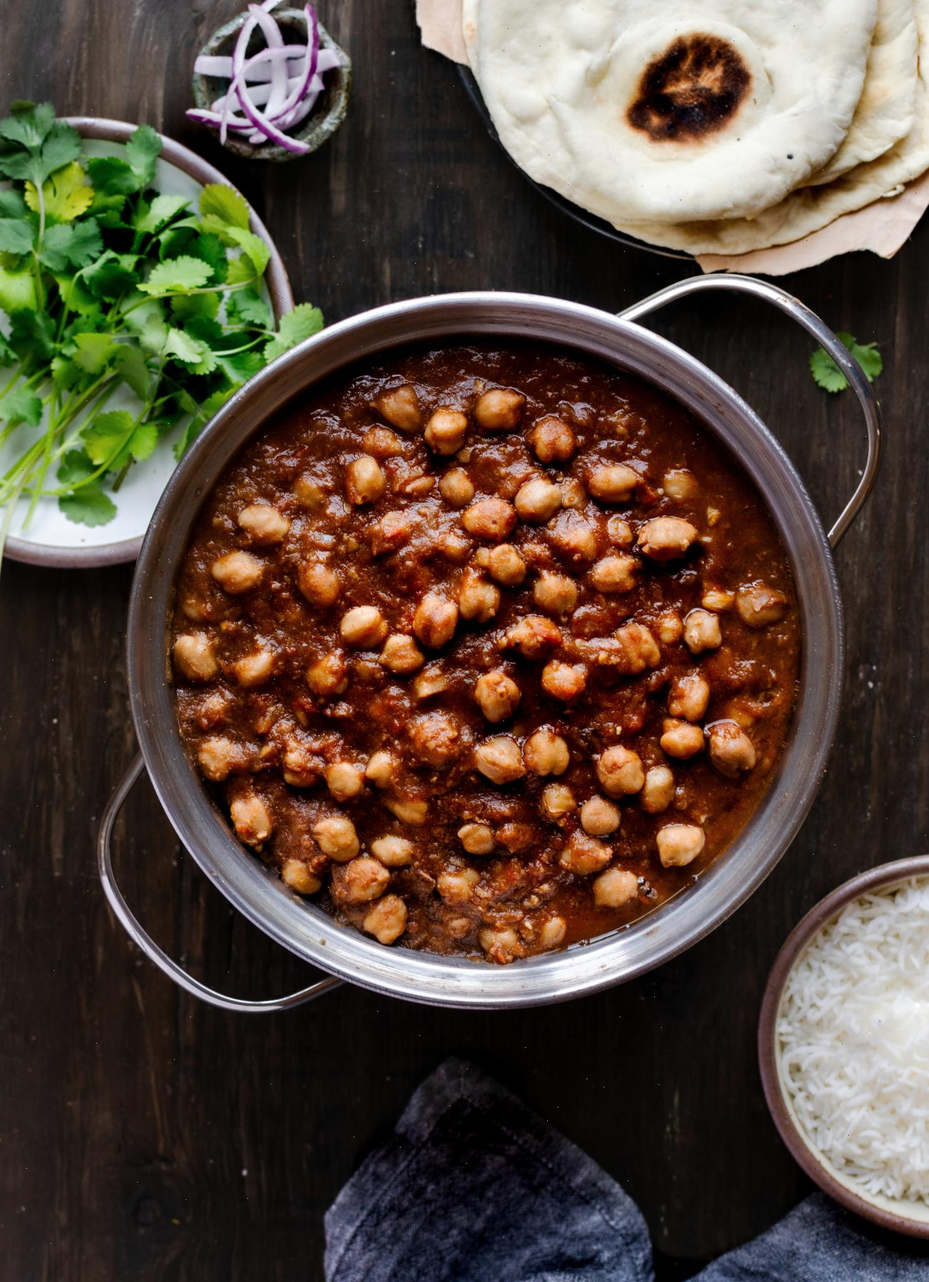chole: (193, 404, 784, 973)
rice: (797, 889, 929, 1200)
roti phulka: (483, 0, 929, 206)
salad: (203, 0, 333, 162)
